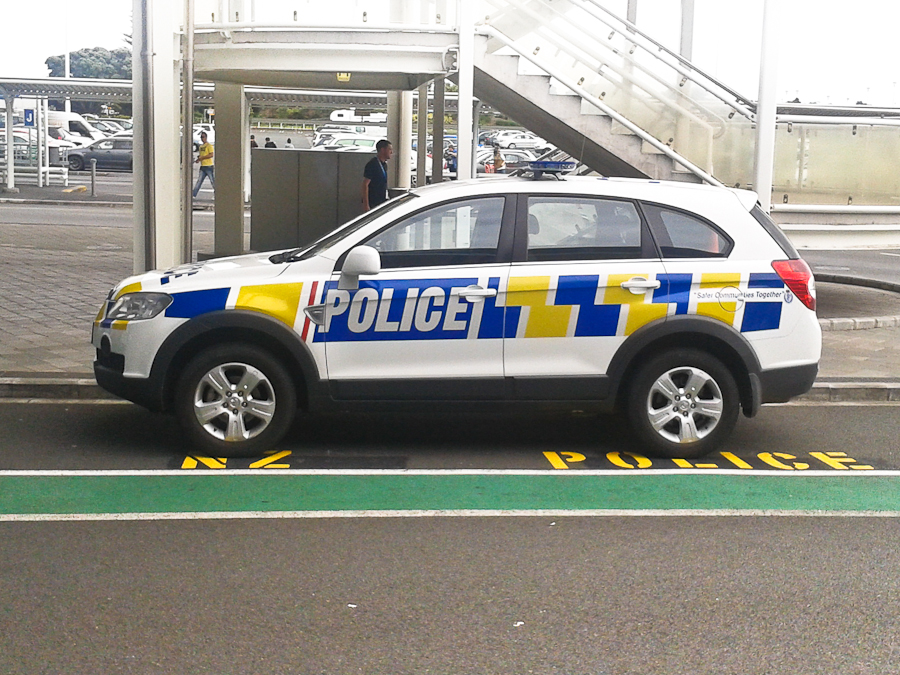special: (89, 162, 823, 459)
